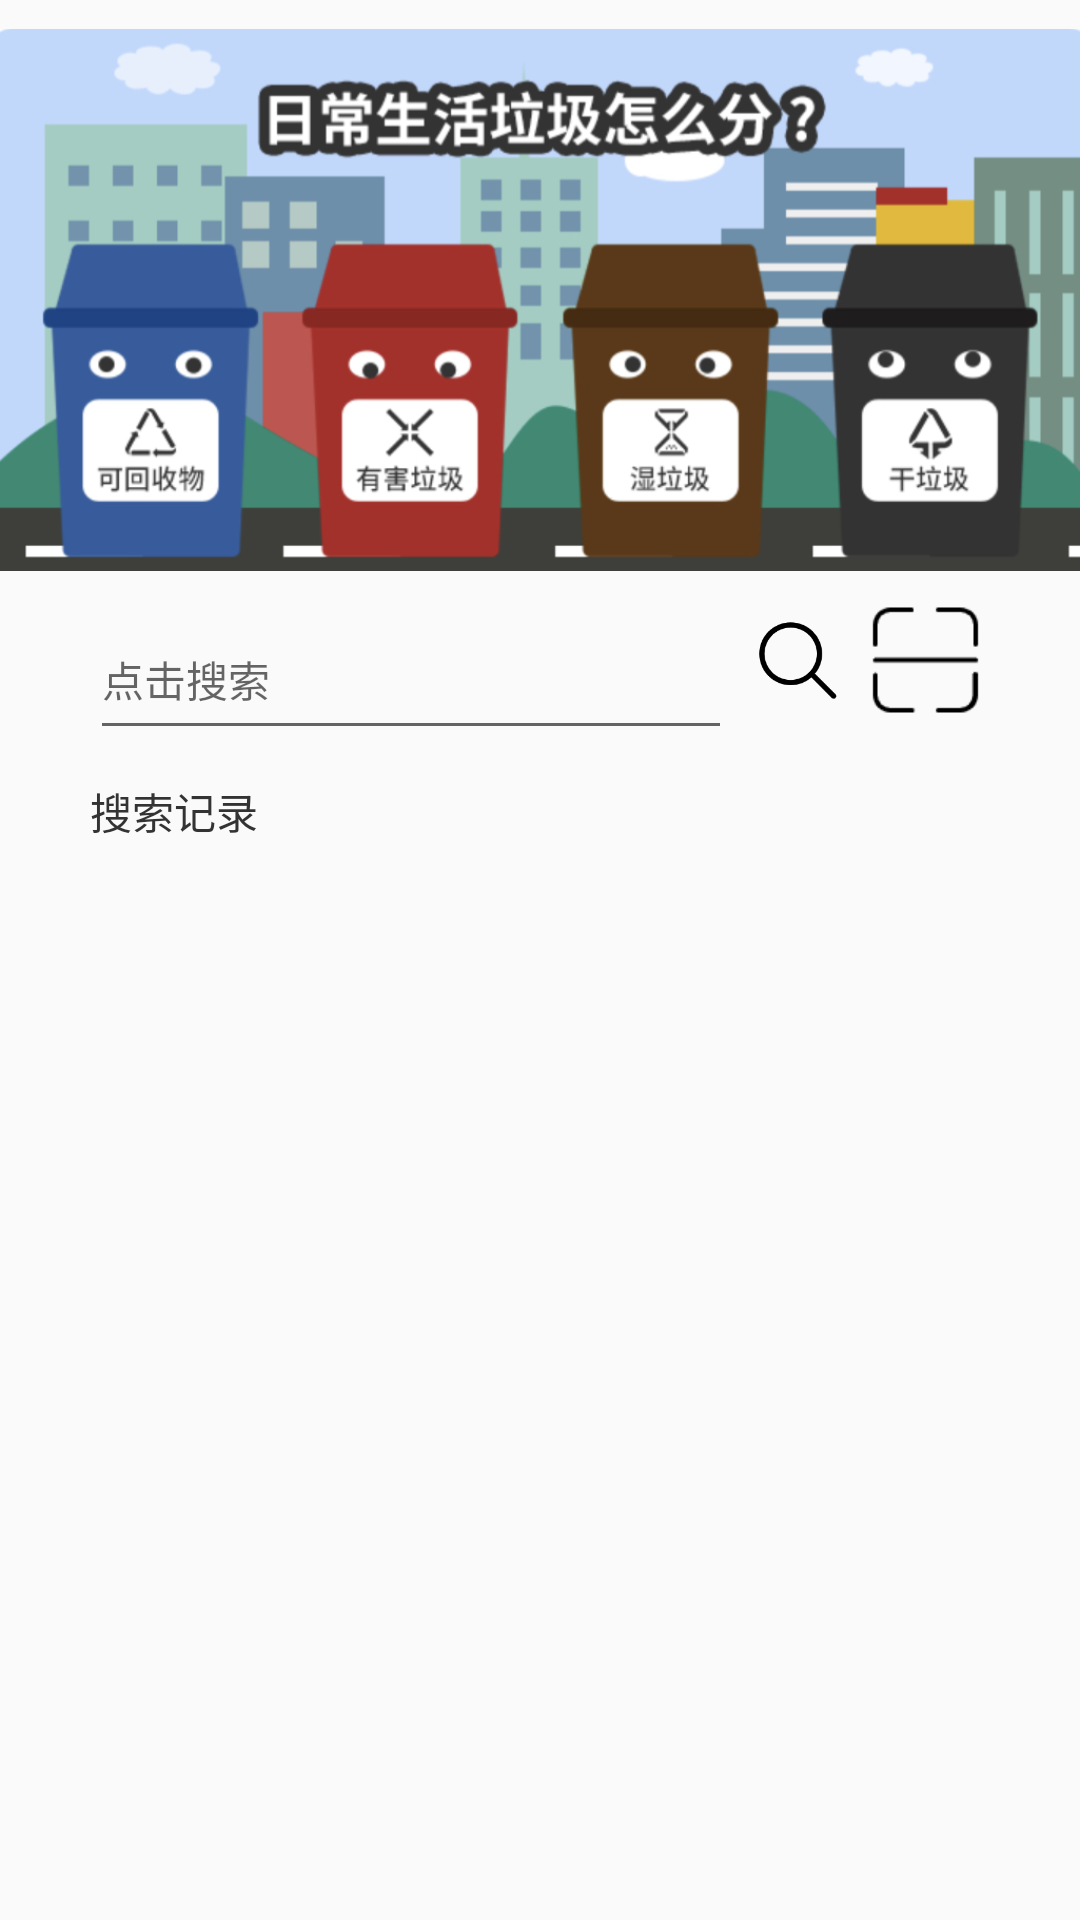

Point at icon controls on the screen. Image size 1080×1920, points as point (x, y).
scan: point (925, 660)
search: point (798, 660)
